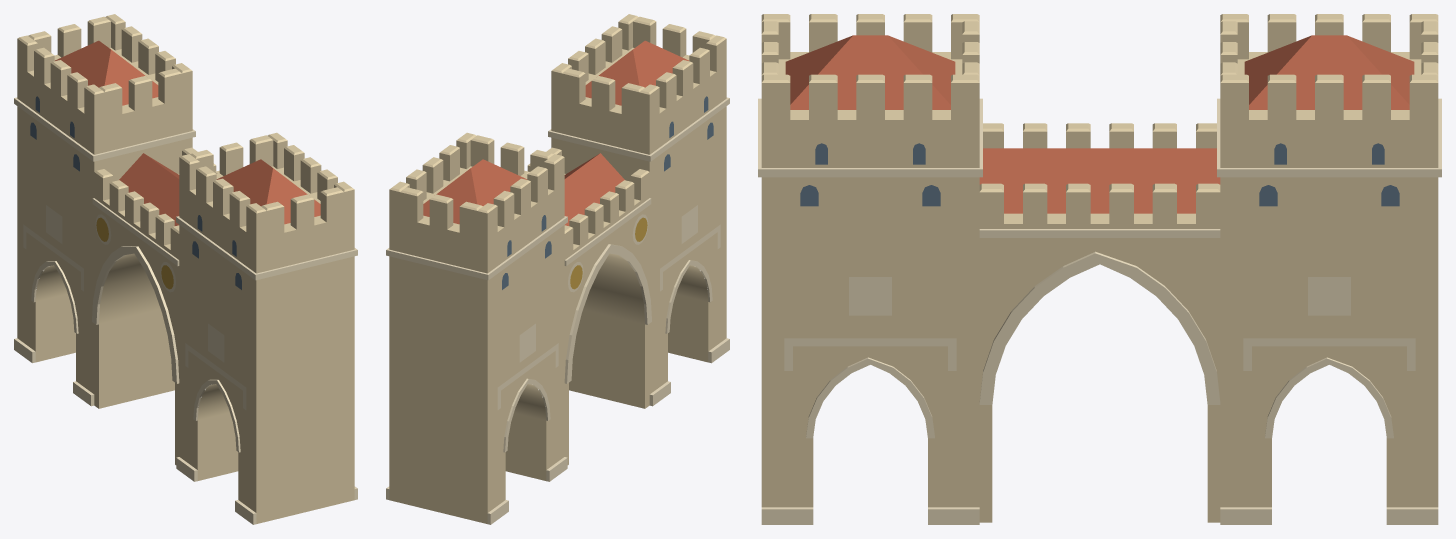
Rendered from munich-karlstor.glb.
The picture shows the model from 3 angles, left to right: view 1: azimuth 30°, elevation 25°; view 2: azimuth 150°, elevation 25°; view 3: azimuth 270°, elevation 25°; orthographic projection. The views are drawn at different scales.
Parts seen in each view (by area): view 1: Karlstor; view 2: Karlstor; view 3: Karlstor.
Boxes of the visible parts, bbox=[...] form: Karlstor: bbox=[14, 14, 357, 524]; Karlstor: bbox=[386, 14, 729, 524]; Karlstor: bbox=[758, 14, 1441, 524].
Size of the model in its own units: 5.96 by 17.45 by 23.84.
